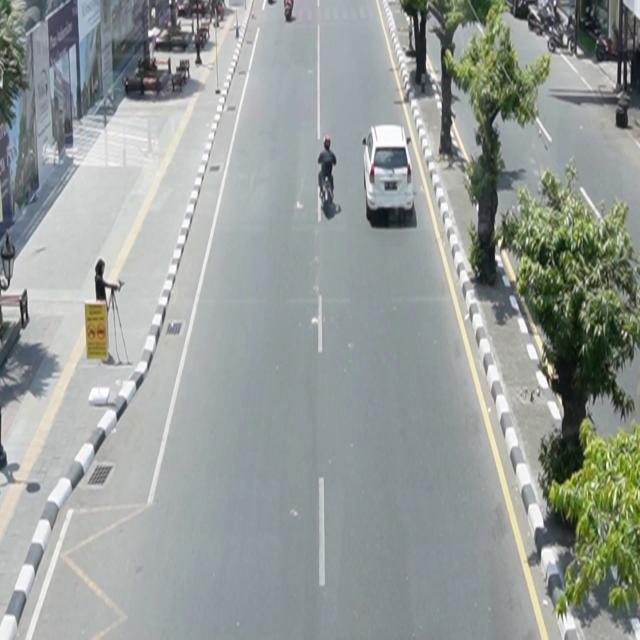car: (362, 125, 415, 225)
